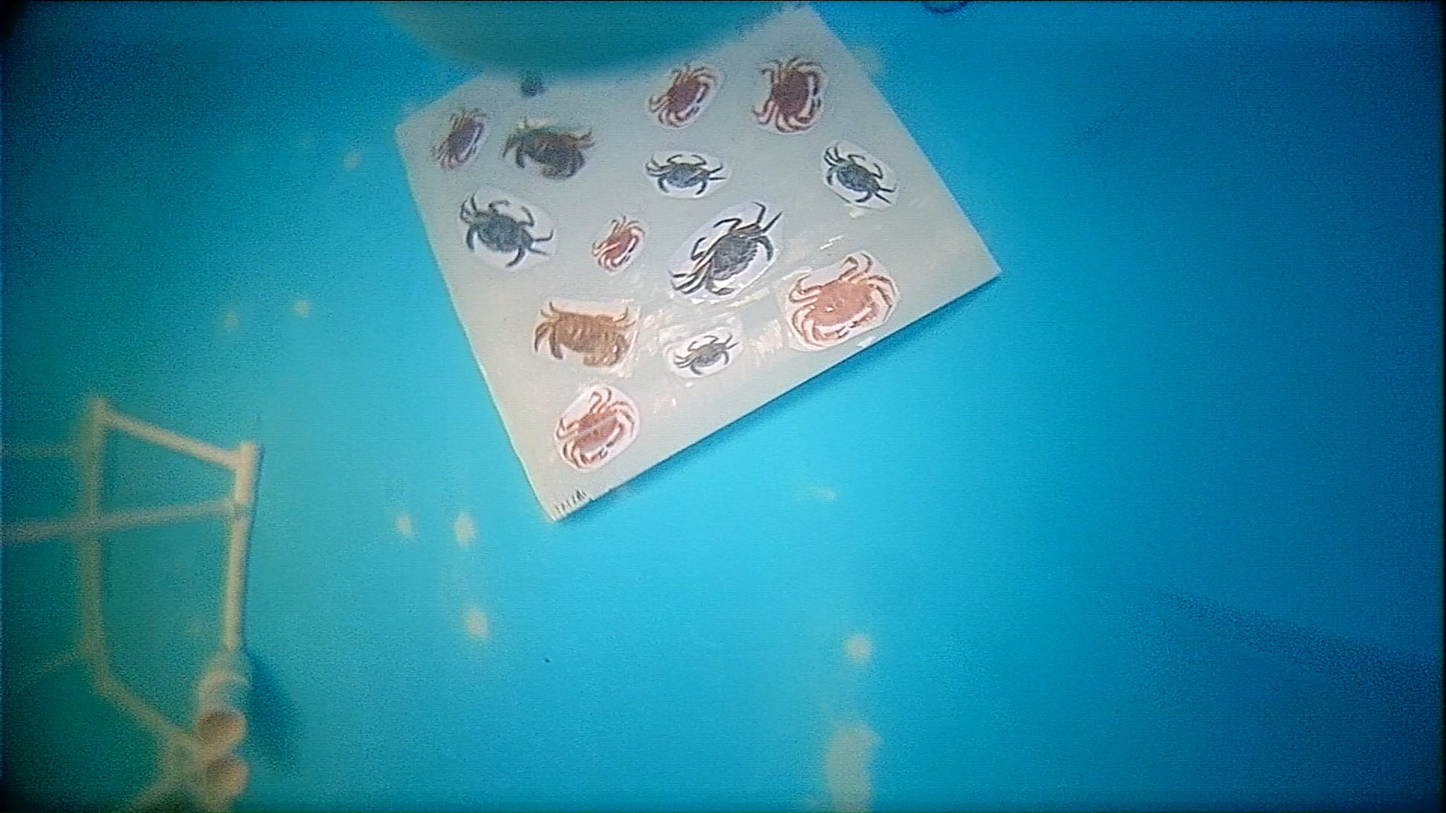GreenCrab: (673, 204, 780, 295), (459, 195, 554, 267), (825, 147, 895, 203), (646, 155, 721, 196), (675, 337, 737, 376)
